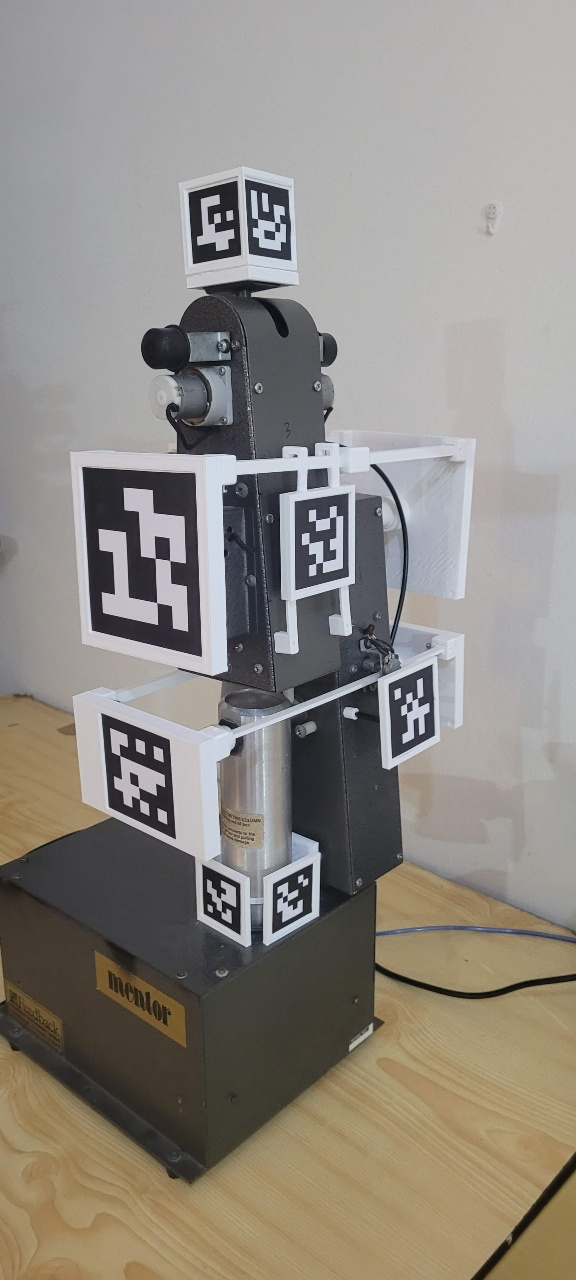Robot: (67, 163, 483, 952)
